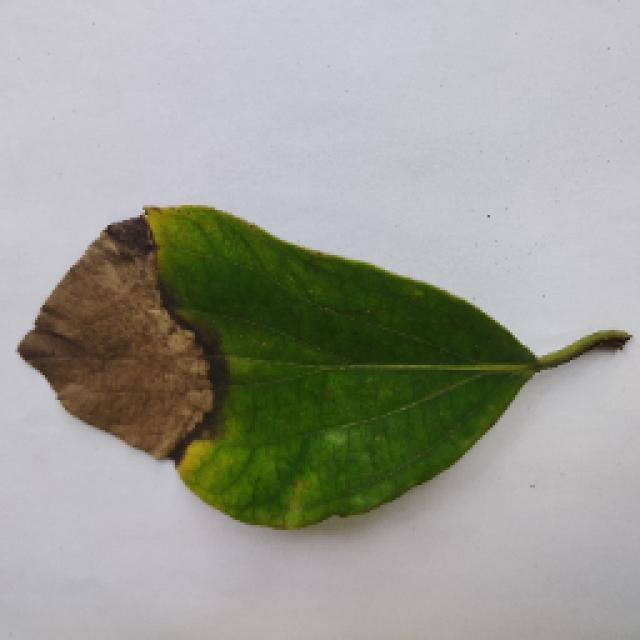footrot: (8, 207, 622, 535)
